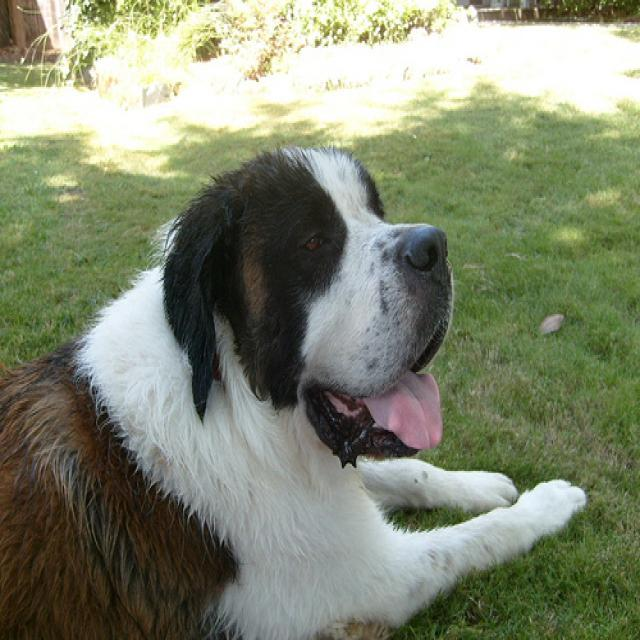dog-saint_bernard: (1, 142, 589, 637)
